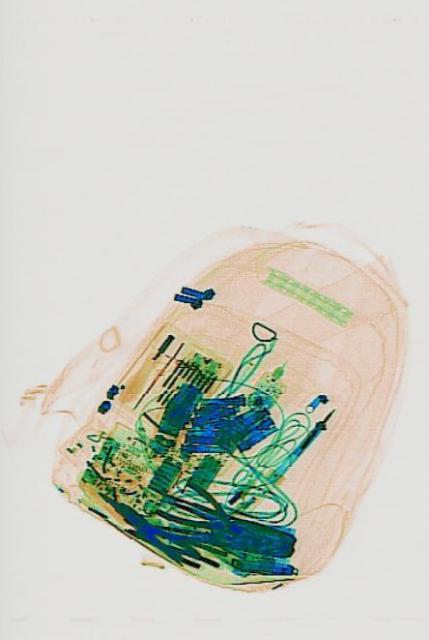Pliers: (153, 468, 280, 564)
